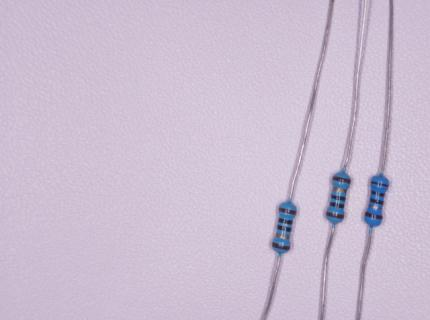Black band: (369, 197, 384, 206), (278, 217, 293, 225), (277, 225, 292, 232), (331, 194, 346, 201), (330, 201, 345, 208), (371, 190, 386, 197)
Brown band: (272, 242, 291, 251), (365, 211, 383, 220), (326, 211, 345, 219), (332, 176, 351, 184), (279, 207, 297, 215), (371, 181, 389, 187)
Gold band: (332, 186, 347, 193), (275, 233, 290, 240), (368, 204, 383, 210)
